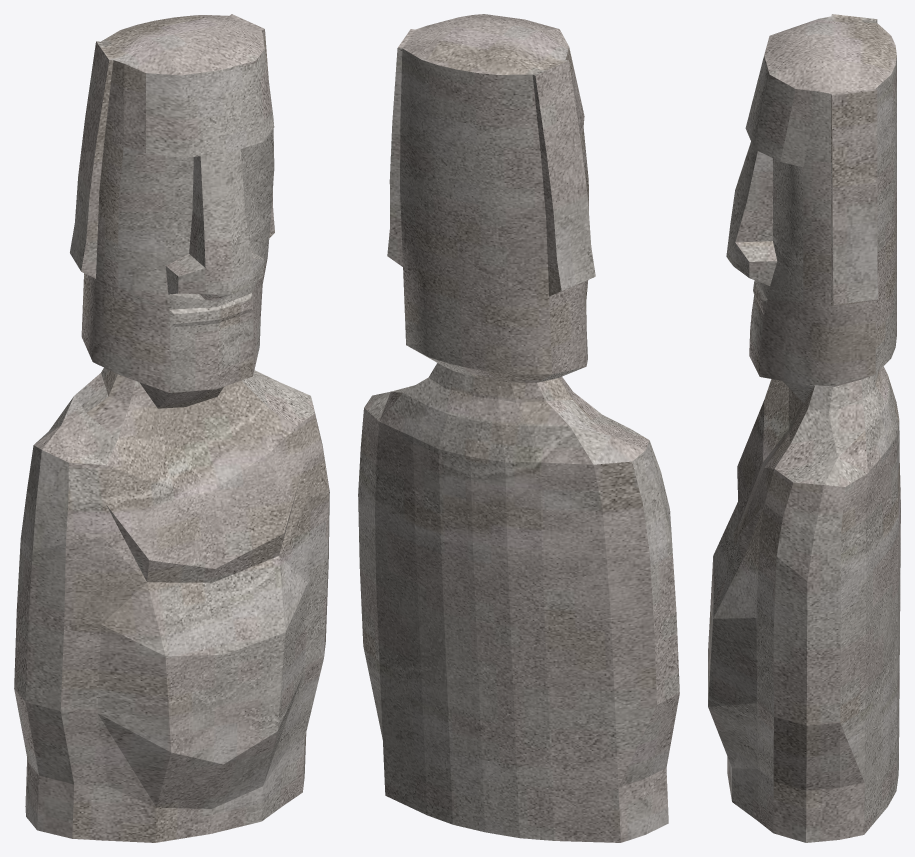
File: moai-tall-stone.glb
3 views of the same model, side by side, from view 1: azimuth 30°, elevation 25°; view 2: azimuth 150°, elevation 25°; view 3: azimuth 270°, elevation 25° (orthographic). The views are drawn at different scales.
Parts seen in each view (by area): view 1: Cylinder005__0_n3d; view 2: Cylinder005__0_n3d; view 3: Cylinder005__0_n3d.
Boxes of the visible parts, x1,y1,x2,y2 form: Cylinder005__0_n3d: (14, 14, 329, 842); Cylinder005__0_n3d: (358, 14, 679, 842); Cylinder005__0_n3d: (708, 14, 900, 842).
Bounding box in the file's own units: 0.8054 × 1.93 × 0.448.
Materials: 1 (1 with a texture image).
